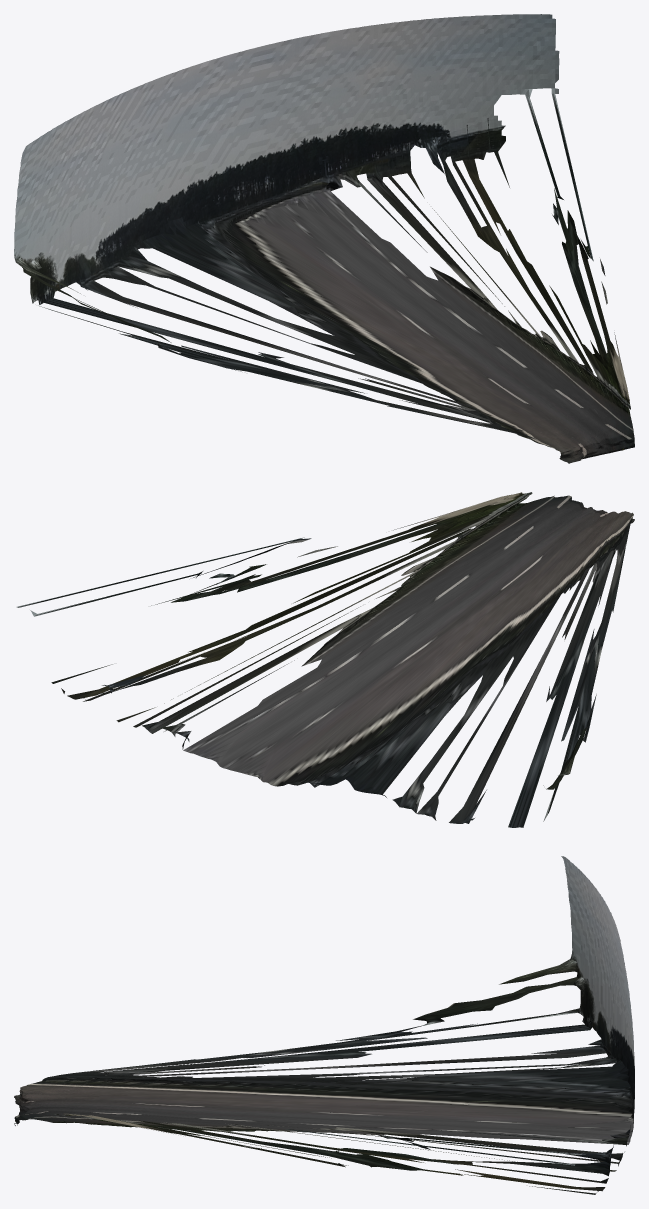
The picture shows the model from 3 angles, top to bottom: view 1: azimuth 30°, elevation 25°; view 2: azimuth 150°, elevation 25°; view 3: azimuth 270°, elevation 25°; orthographic projection. The views are drawn at different scales.
Parts seen in each view (by area): view 1: defaultobject; view 2: defaultobject; view 3: defaultobject.
Boxes of the visible parts, bbox=[...] form: defaultobject: bbox=[14, 14, 634, 463]; defaultobject: bbox=[16, 492, 634, 827]; defaultobject: bbox=[14, 856, 634, 1194].
Bounding box in the file's own units: 40.41 × 13.37 × 44.25.
1 material, 1 textured.
